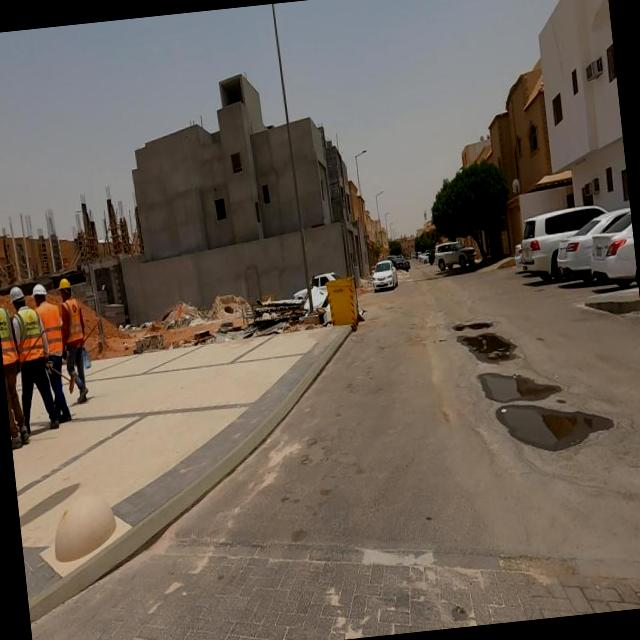debris: (206, 242, 344, 388), (126, 272, 214, 375), (104, 290, 164, 364)
